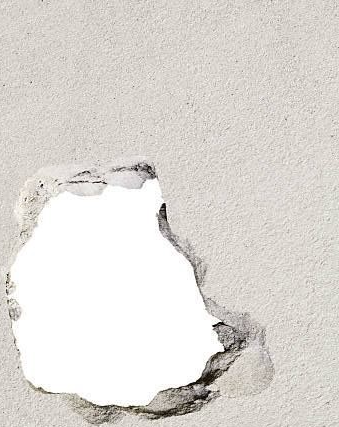Spalling: (4, 156, 251, 427)
